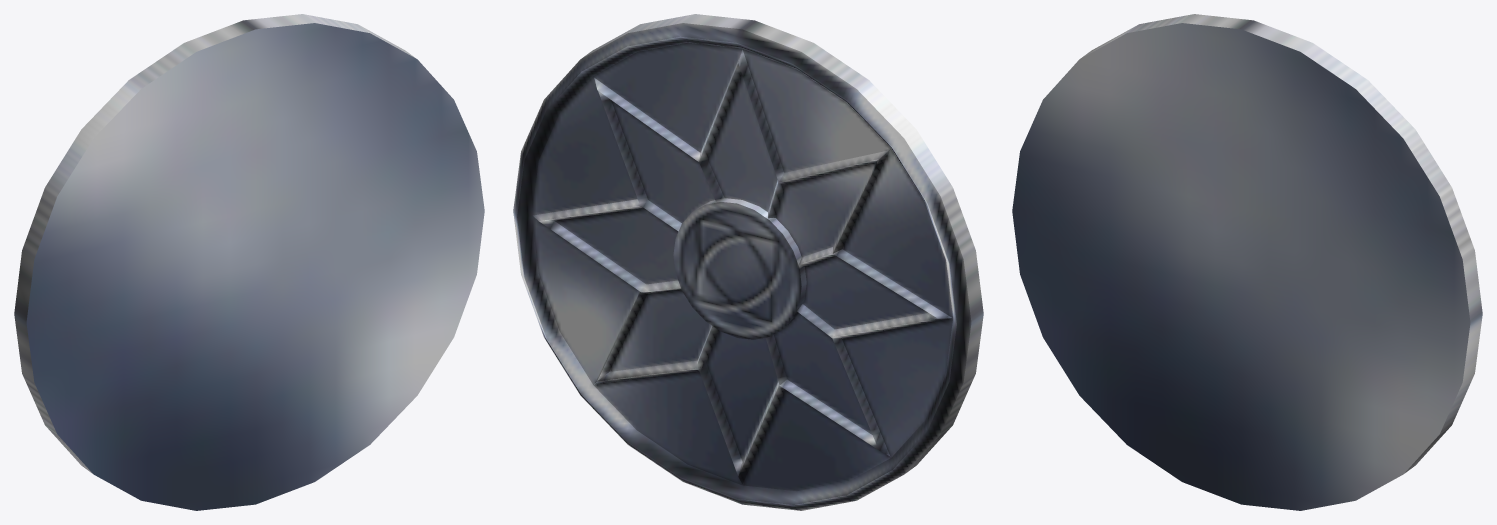
File: icon.ico.obj
The picture shows the model from 3 angles, left to right: view 1: azimuth 30°, elevation 25°; view 2: azimuth 150°, elevation 25°; view 3: azimuth 330°, elevation 25°; orthographic projection.
Size of the model in its own units: 4.76 by 4.72 by 0.3167.
Materials: 1 (1 with a texture image).
